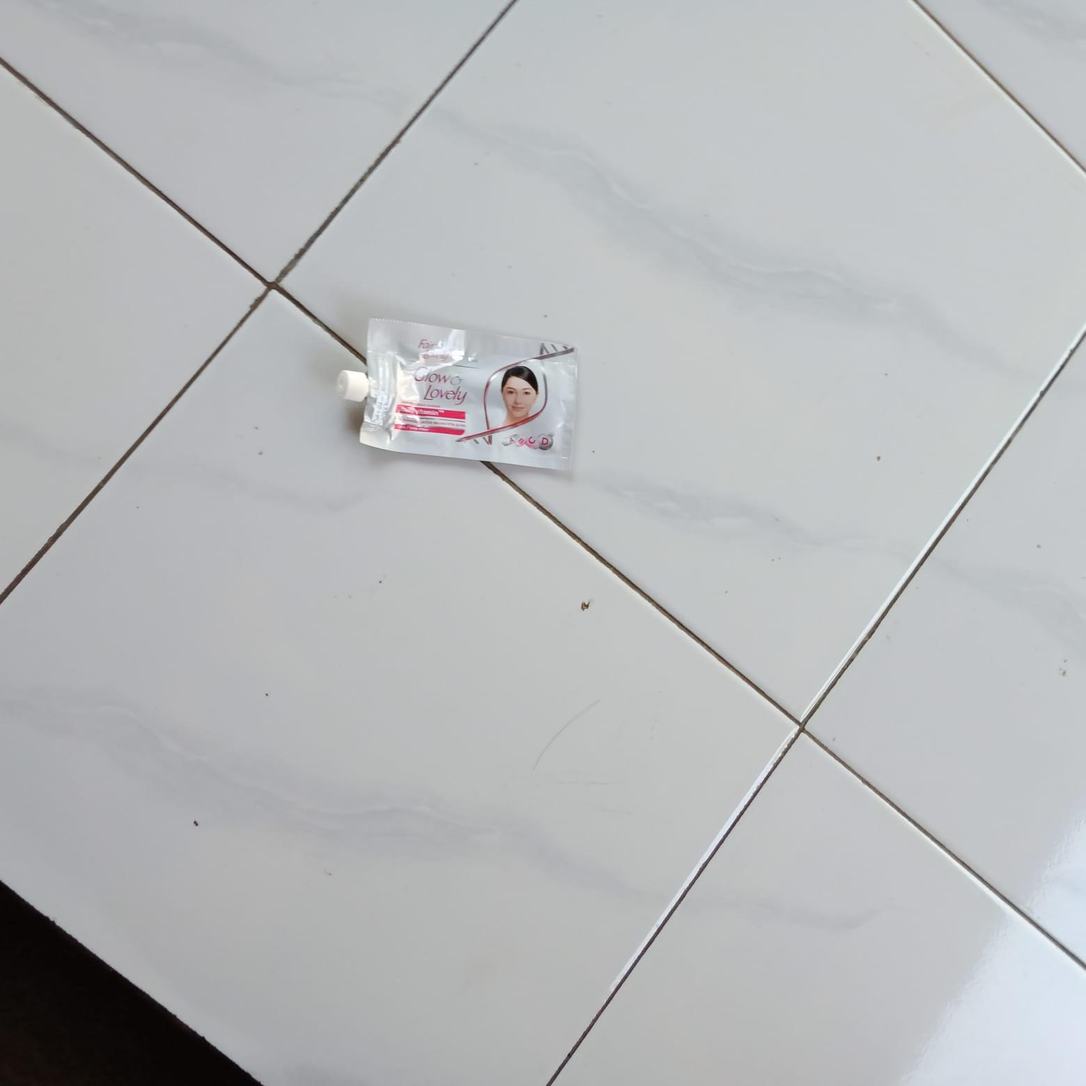Plastik: (359, 319, 580, 473)
